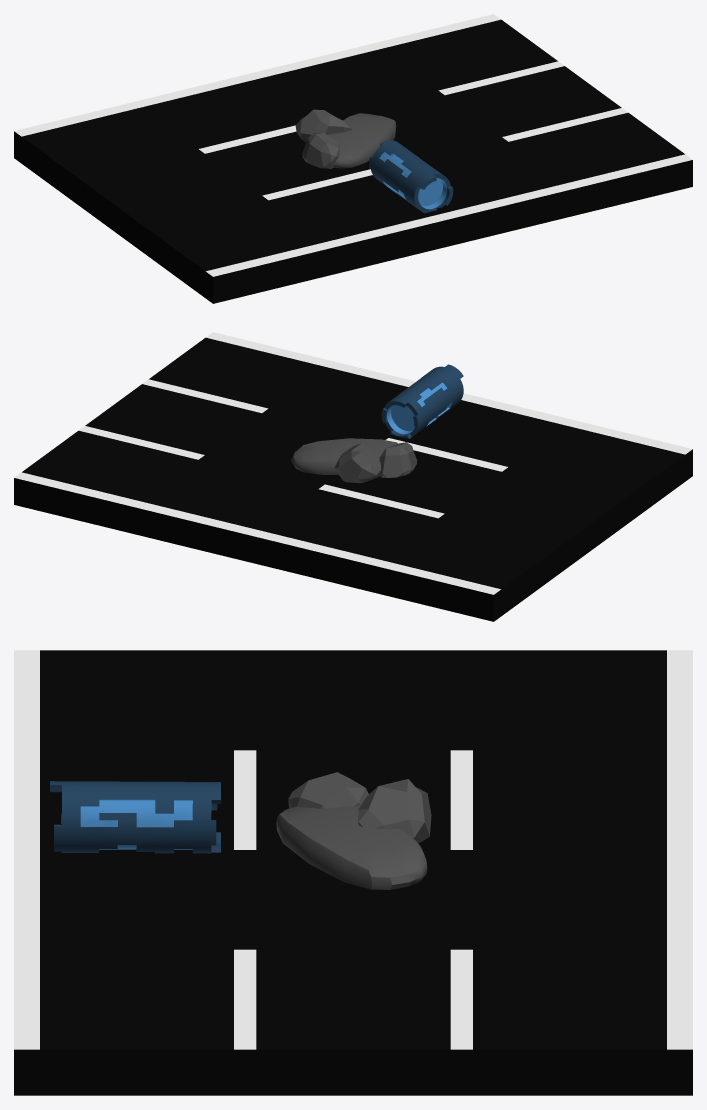
Rendered from Route Rochet V2 Tronc V1.fbx.
3 renders of one model, top to bottom at view 1: azimuth 30°, elevation 25°; view 2: azimuth 150°, elevation 25°; view 3: azimuth 270°, elevation 25°, orthographic. The views are drawn at different scales.
Visible parts, largest first — view 1: Route Rochet V2 Tronc V1; view 2: Route Rochet V2 Tronc V1; view 3: Route Rochet V2 Tronc V1.
Part boxes in pixels (x1,y1,x2,y2): Route Rochet V2 Tronc V1: (14, 14, 692, 303); Route Rochet V2 Tronc V1: (14, 332, 692, 621); Route Rochet V2 Tronc V1: (14, 650, 692, 1095).
Bounding box in the file's own units: 501 × 62.2 × 360.
